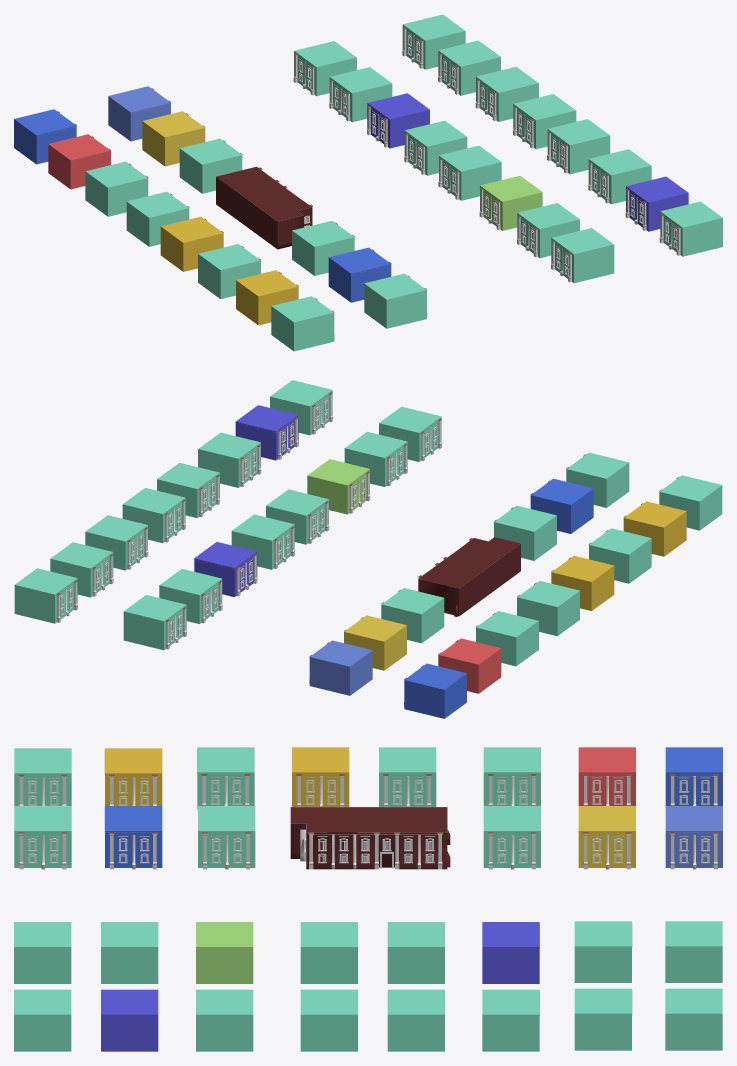
The model's file is Tierra_8.glb.
3 views of the same model, one above another, from view 1: azimuth 30°, elevation 25°; view 2: azimuth 150°, elevation 25°; view 3: azimuth 270°, elevation 25° (orthographic). The views are drawn at different scales.
Parts seen in each view (by area): view 1: Edificio_Principal, Cube.016, Cube.003, Cube.006, Cube.030, Cube.019, Cube.010, Cube.039, Cube, Cube.007, Cube.009, Cube.001 (+19 smaller); view 2: Edificio_Principal, Cube.005, Cube.008, Cube.011, Cube.027, Cube.038, Cube, Cube.009, Cube.006, Cube.002, Cube.001, Cube.015 (+19 smaller); view 3: Edificio_Principal, Cube.031, Cube.038, Cube.028, Cube.029, Cube.030, Cube.032, Cube.033, Cube.037, Cube.017, Cube.018, Cube.019 (+21 smaller).
Boxes of the visible parts, <box> form: Edificio_Principal: <box>216,167,312,249</box>; Cube.016: <box>271,296,334,351</box>; Cube.003: <box>364,273,426,328</box>; Cube.006: <box>85,161,148,216</box>; Cube.030: <box>660,201,722,256</box>; Cube.019: <box>551,228,614,283</box>; Cube.010: <box>160,216,223,271</box>; Cube.039: <box>142,111,205,166</box>; Cube: <box>179,138,242,193</box>; Cube.007: <box>48,134,110,189</box>; Cube.009: <box>198,244,260,299</box>; Cube.001: <box>292,221,354,275</box>; Edificio_Principal: <box>418,537,520,616</box>; Cube.005: <box>309,640,372,695</box>; Cube.008: <box>404,663,466,718</box>; Cube.011: <box>517,581,579,636</box>; Cube.027: <box>123,595,186,650</box>; Cube.038: <box>14,568,77,623</box>; Cube: <box>381,588,444,643</box>; Cube.009: <box>589,528,651,583</box>; Cube.006: <box>476,611,538,666</box>; Cube.002: <box>530,478,593,533</box>; Cube.001: <box>494,505,556,560</box>; Cube.015: <box>623,501,686,556</box>; Edificio_Principal: <box>290,807,450,869</box>; Cube.031: <box>482,989,539,1051</box>; Cube.038: <box>665,988,722,1050</box>; Cube.028: <box>196,989,253,1051</box>; Cube.029: <box>101,989,158,1051</box>; Cube.030: <box>14,989,71,1051</box>; Cube.032: <box>387,989,444,1051</box>; Cube.033: <box>300,989,357,1051</box>; Cube.037: <box>574,988,631,1050</box>; Cube.017: <box>196,922,253,983</box>; Cube.018: <box>101,922,158,983</box>; Cube.019: <box>14,922,71,983</box>.
Size of the model in its own units: 133 by 8.52 by 148.
14 materials, 3 textured.
